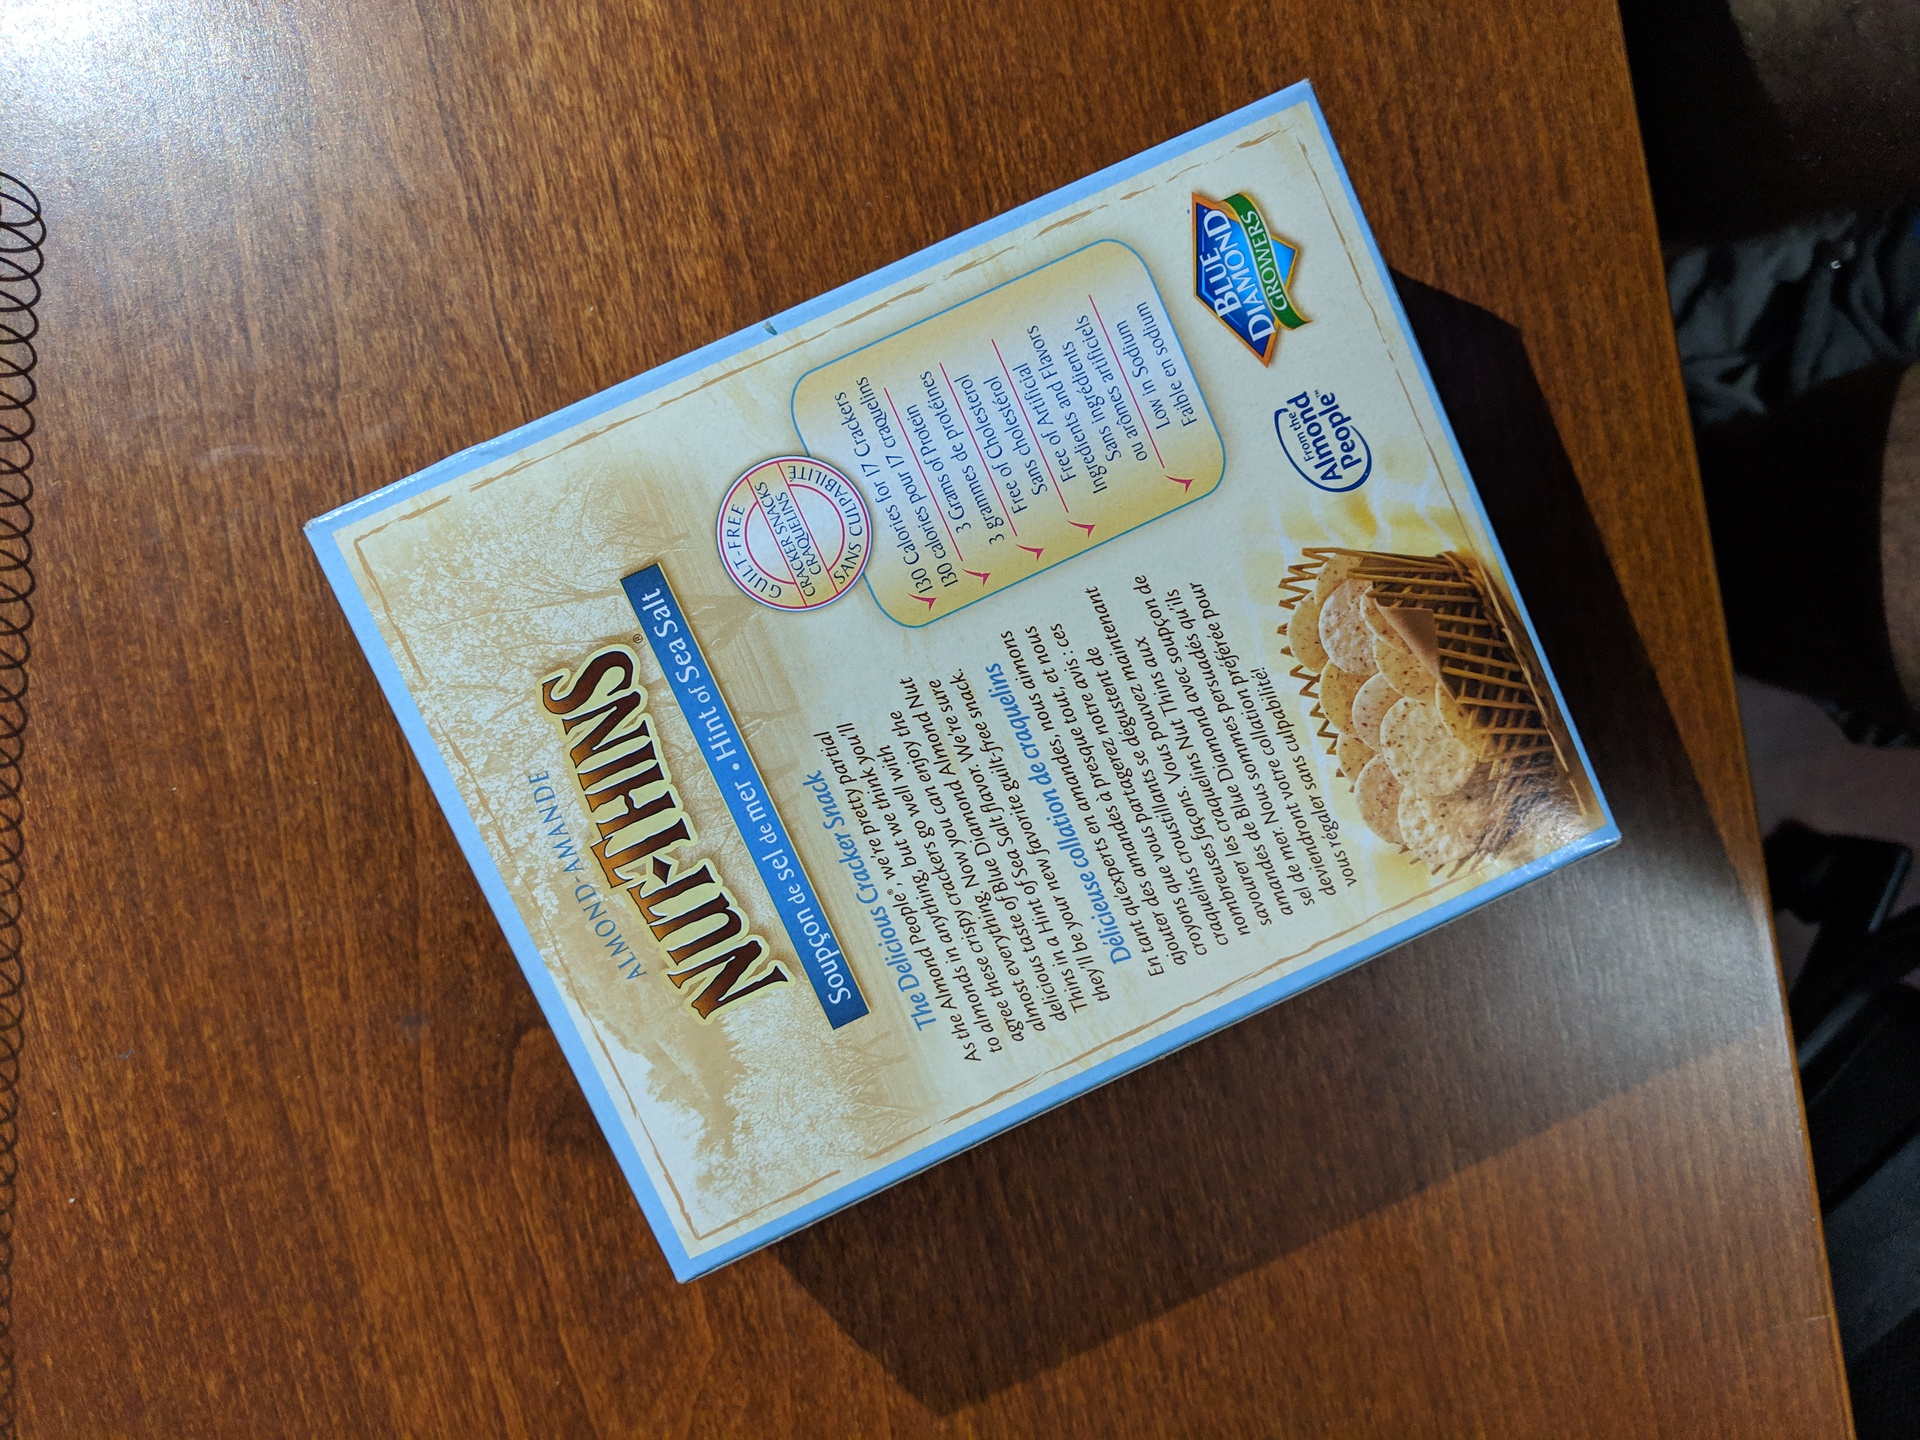blue_diamond_nut_thins_almond_seasalt: (443, 169, 1482, 1166)
